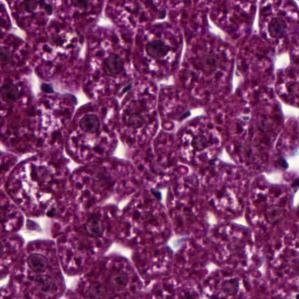inflammation: (135, 14, 194, 87), (80, 35, 138, 94), (254, 3, 296, 48)
